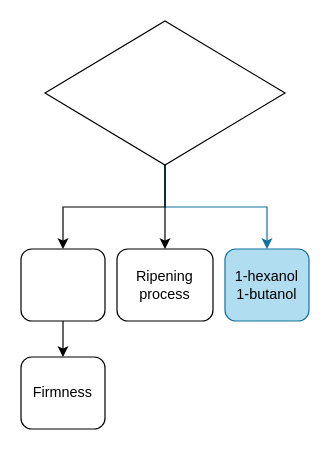
This 330x450 diagram has some shape labels left out. The box of each missing label's shape, as (x1, y1, x2, y2) in pixels:
Harvest date: (20, 248, 105, 321)
NAC18.1: (44, 20, 285, 165)
